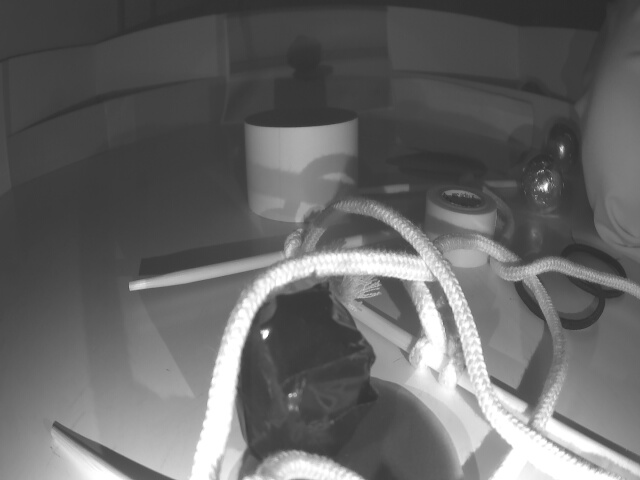Dead: (240, 286, 368, 461)
Live: (524, 157, 565, 213), (545, 121, 577, 169)
Point: (12, 78, 224, 193), (395, 68, 578, 156)
